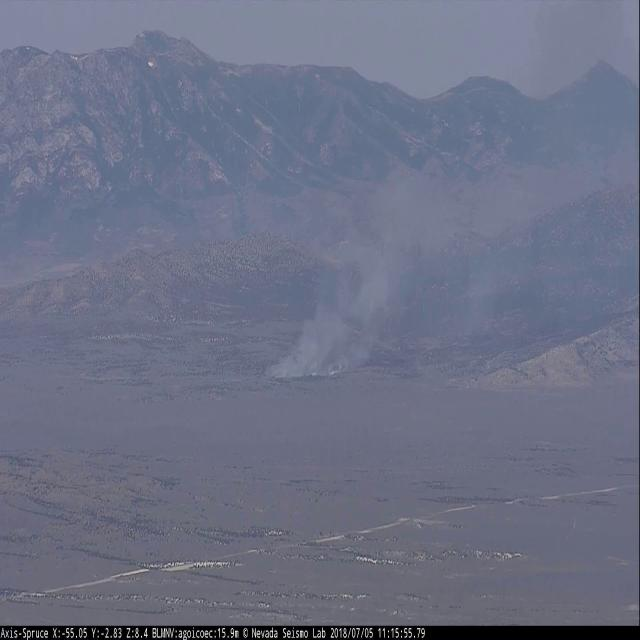smoke: (259, 104, 552, 402)
